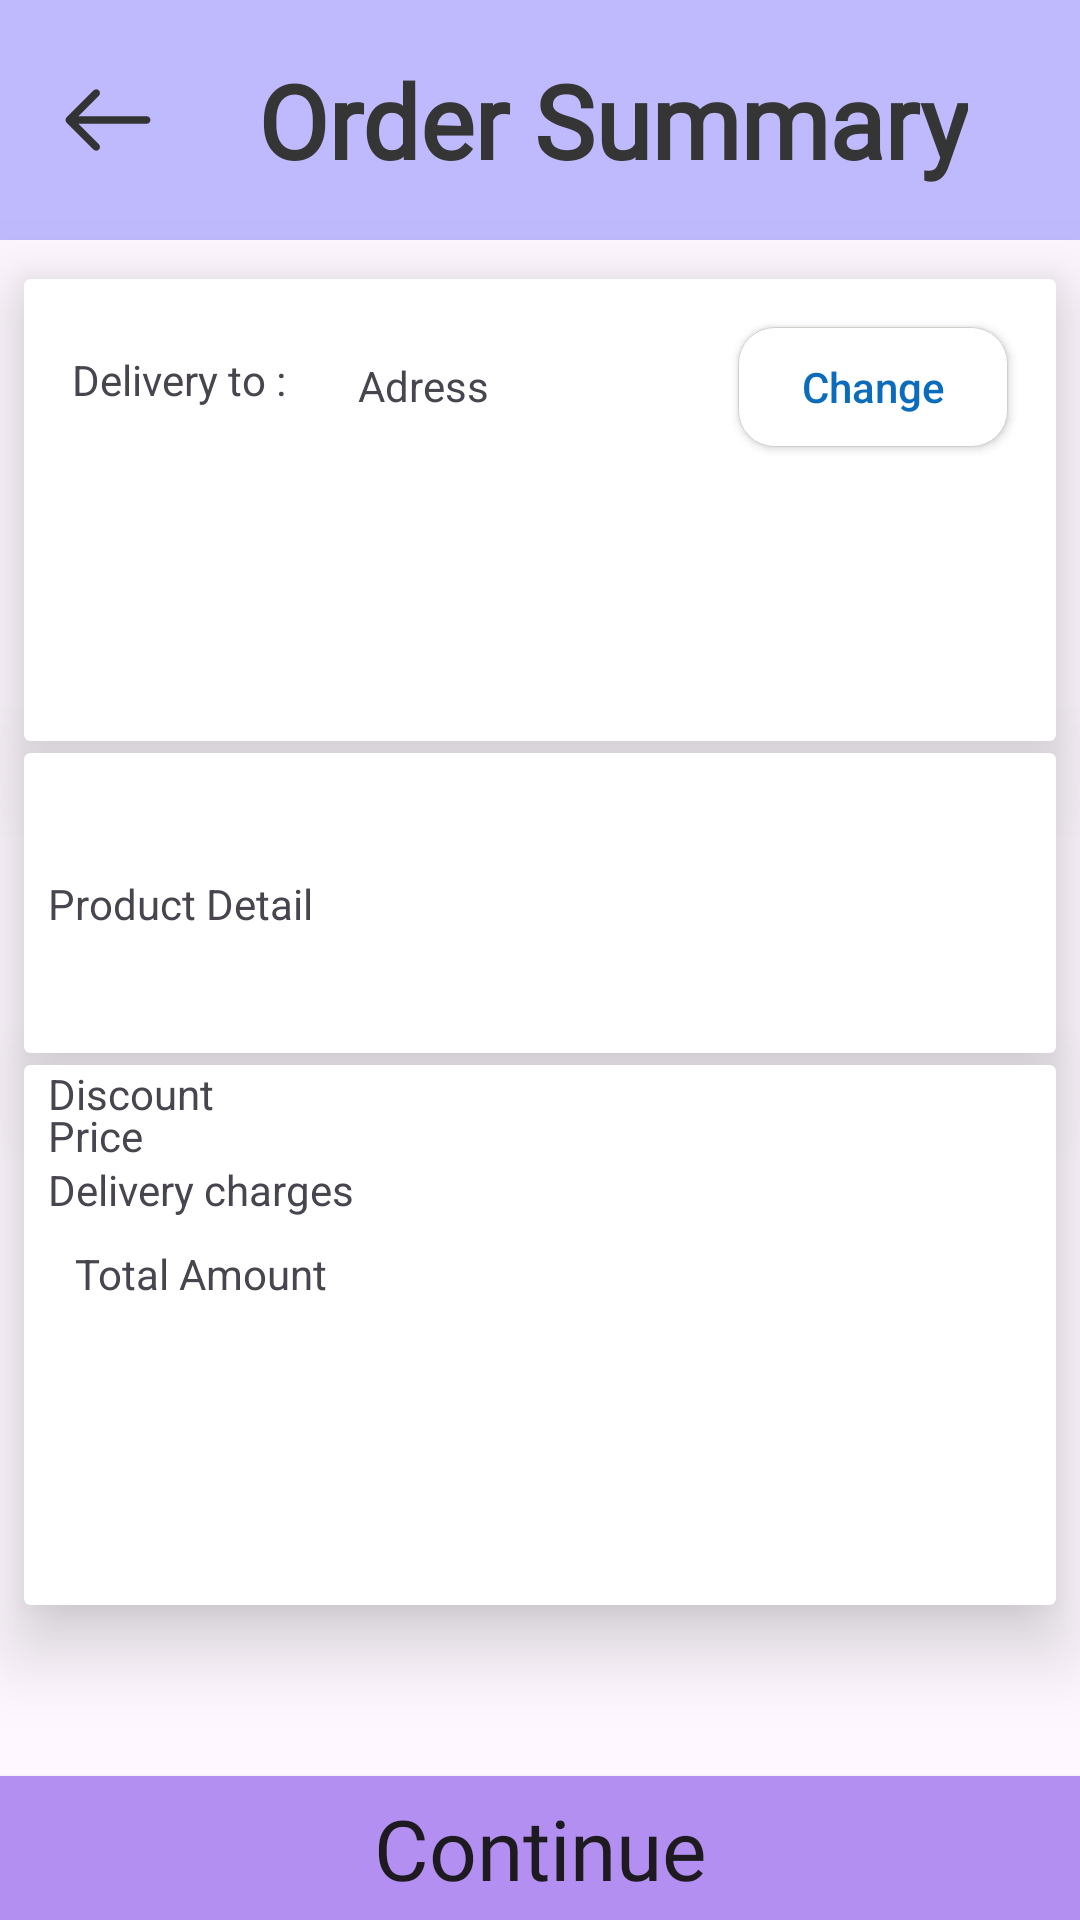

Screen size 1080×1920. Icon name, then its center in pixels as point (x, y):
arrow back basic: point (108, 120)
